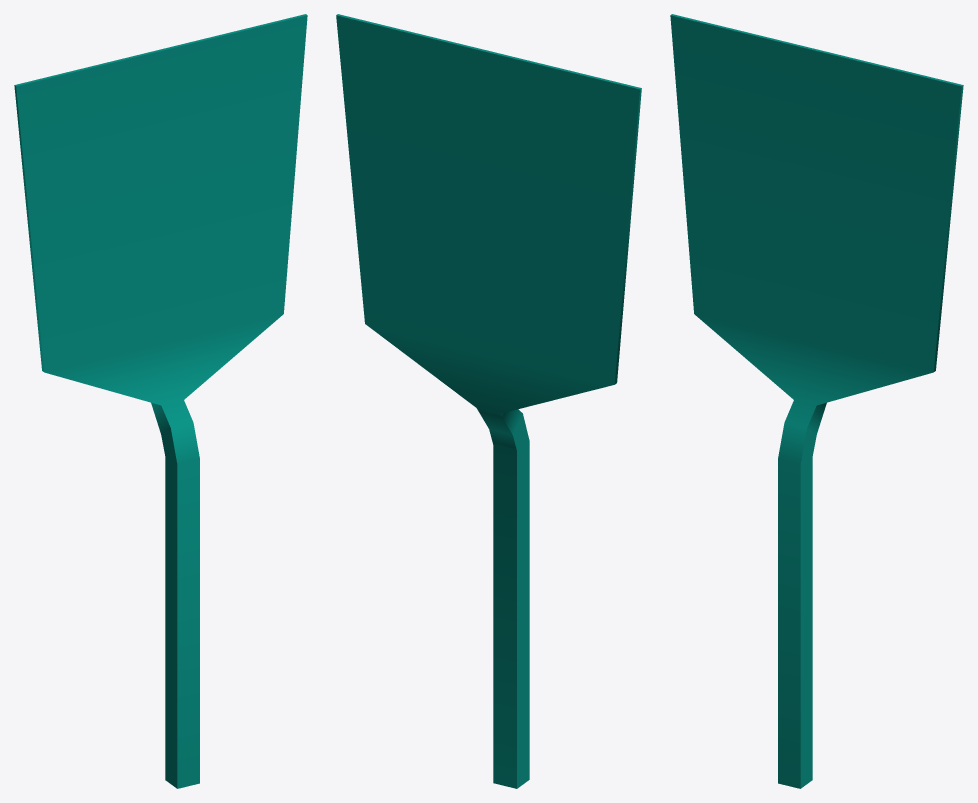
3 views of the same model, side by side, from view 1: azimuth 30°, elevation 25°; view 2: azimuth 150°, elevation 25°; view 3: azimuth 330°, elevation 25° (orthographic). The views are drawn at different scales.
Size of the model in its own units: 0.4262 by 1 by 0.0726.
